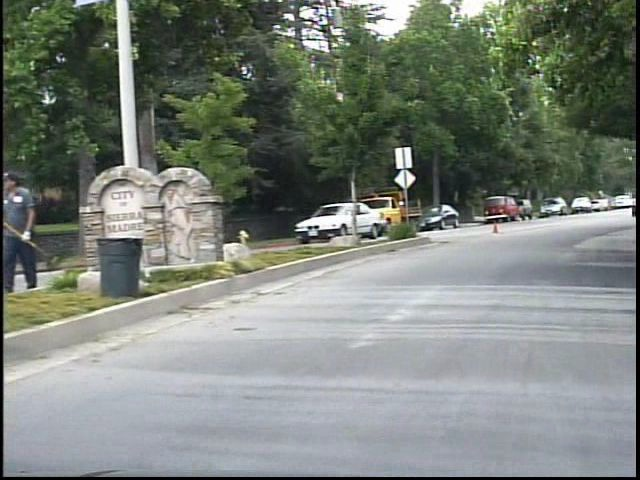person: (13, 166, 57, 296)
